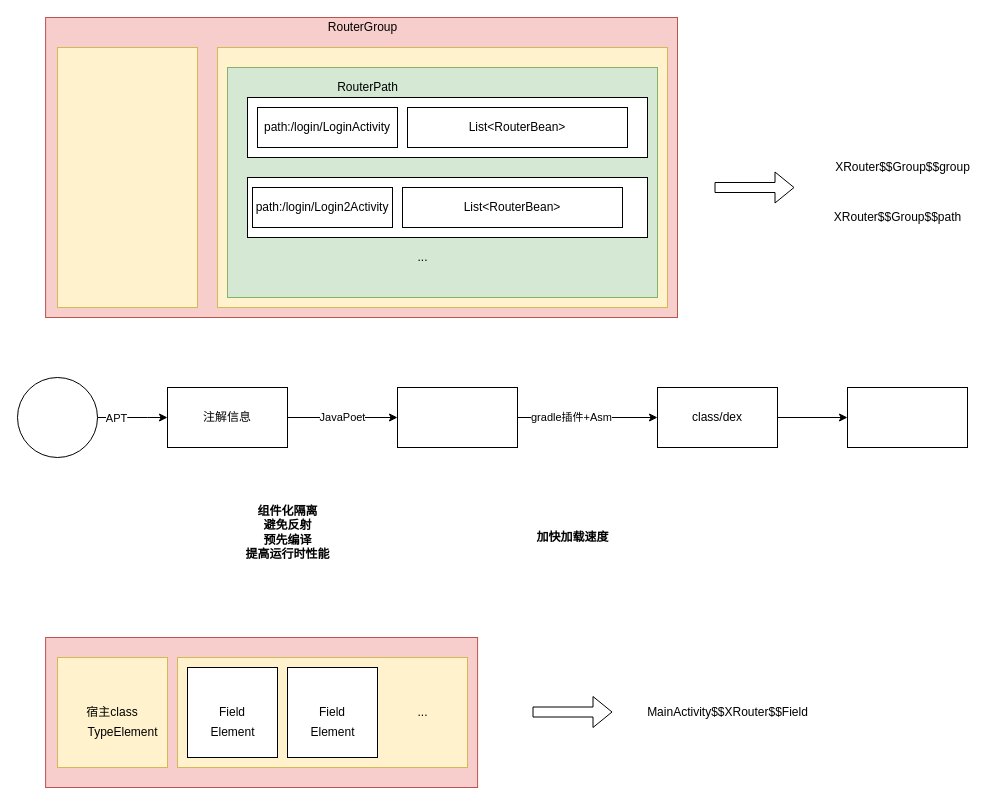
Image size: 995x805. Some labels were removed from this diagram. The box of each missing label's shape, as (x1, y1, x2, y2) in pixels:
group:Login: (56, 46, 198, 308)
处理注解的类: (396, 386, 518, 448)
开始: (16, 376, 98, 458)
打包成apk: (846, 386, 968, 448)
